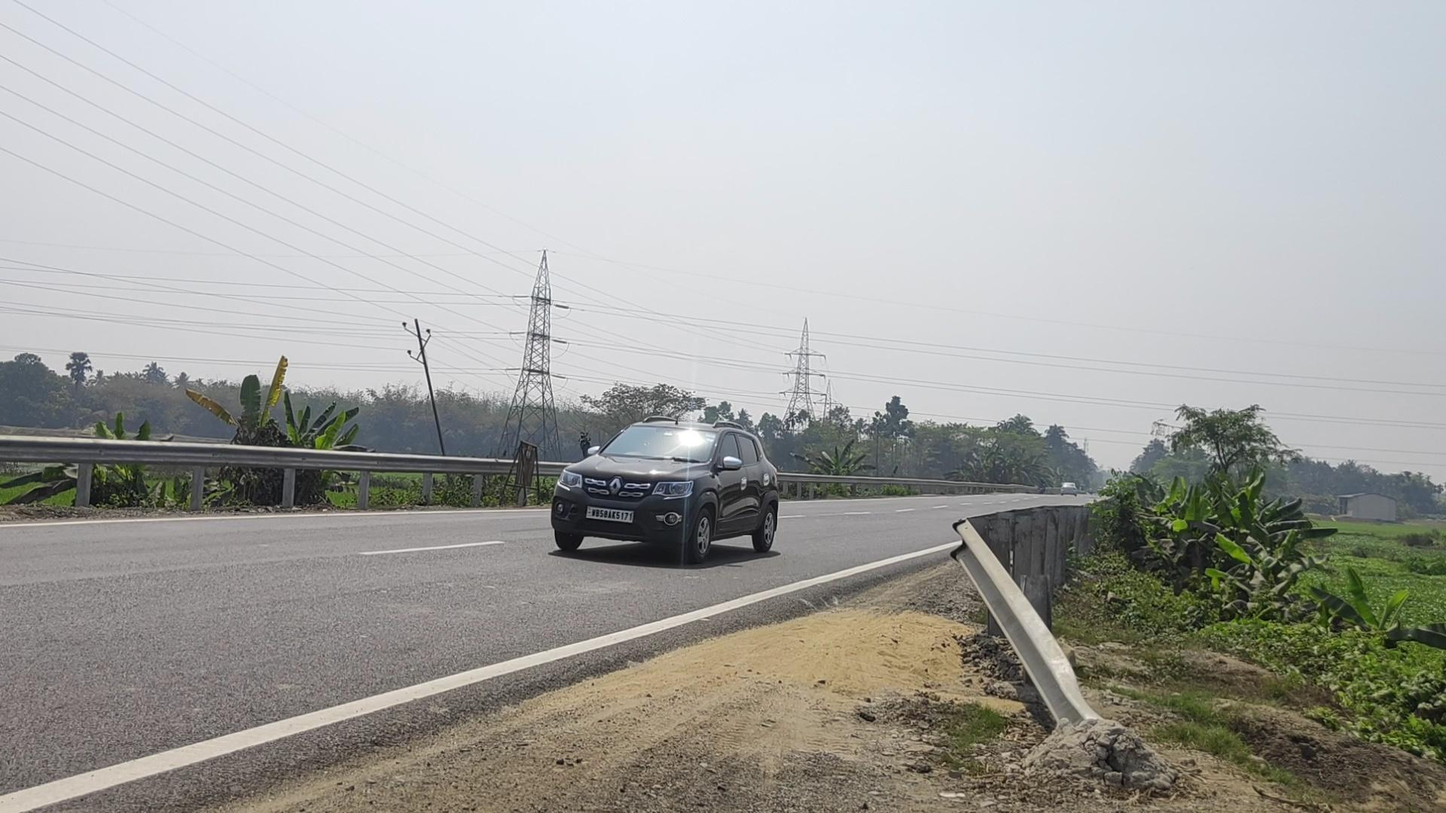car: (551, 416, 779, 565)
